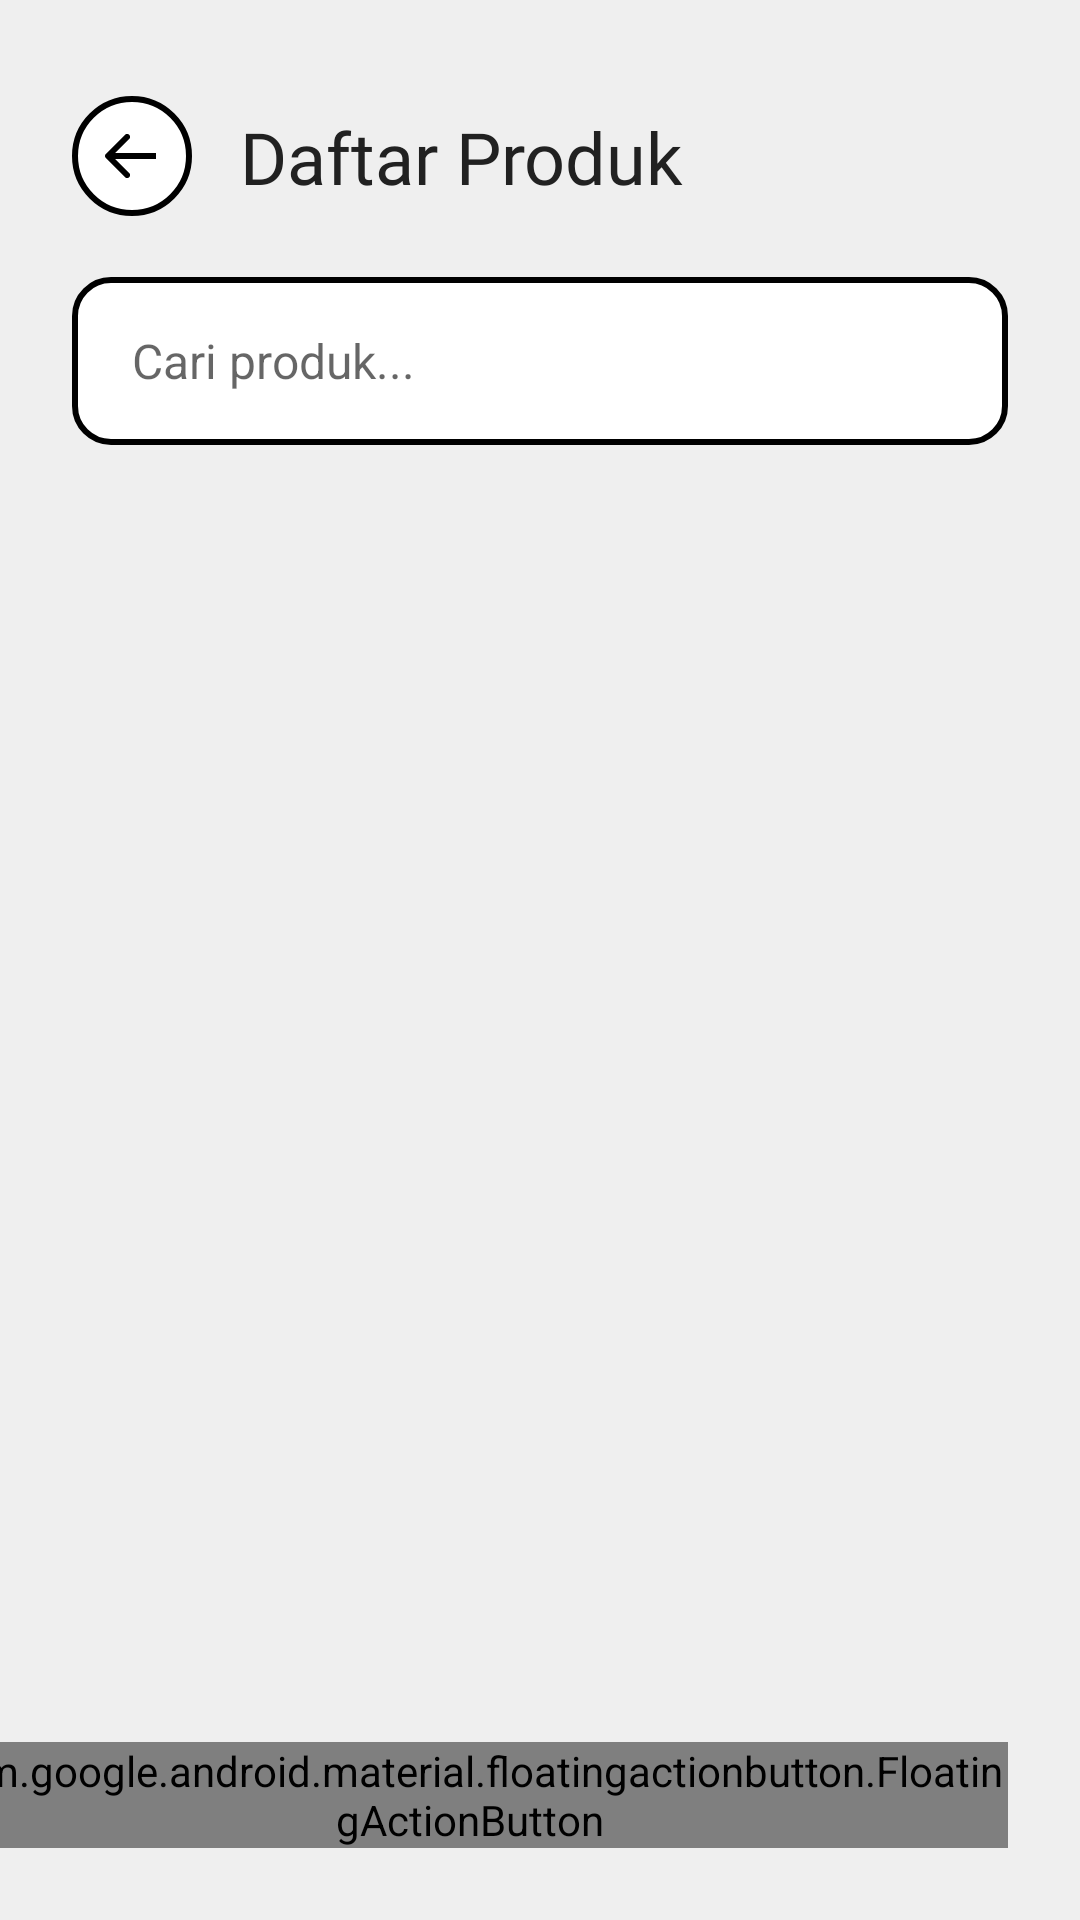

Point at icon controls on the screen. Image size 1080w x 1920h, points as (x=x, y=y).
Kembali: (x=132, y=156)
